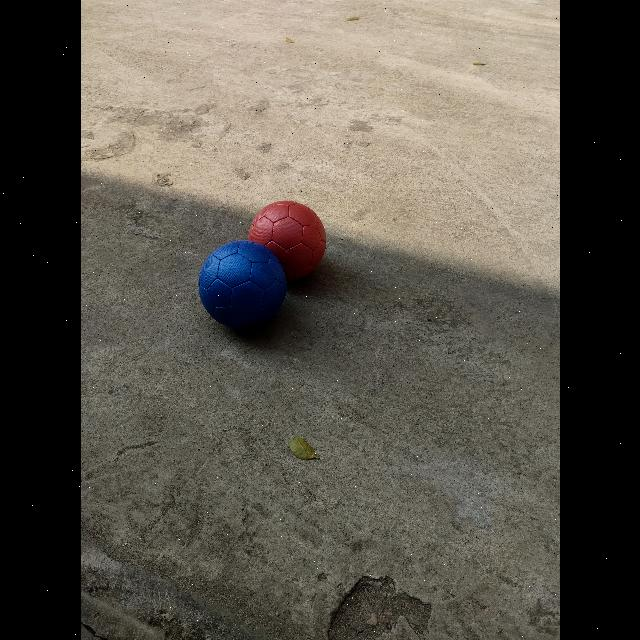B: (197, 241, 287, 333)
R: (247, 201, 326, 281)
